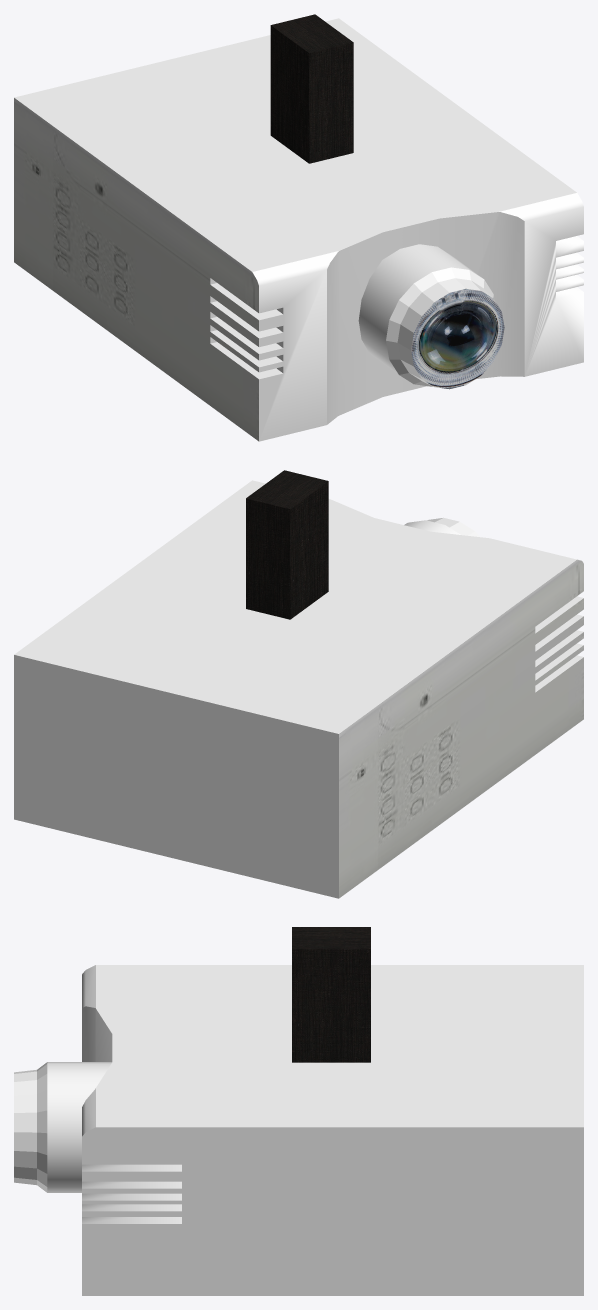
Rendered from projector.glb.
3 views of the same model, one above another, from view 1: azimuth 30°, elevation 25°; view 2: azimuth 150°, elevation 25°; view 3: azimuth 270°, elevation 25° (orthographic). The views are drawn at different scales.
Parts seen in each view (by area): view 1: Box001, Cylinder001, Box006; view 2: Box001, Box006, Cylinder001; view 3: Box001, Box006, Cylinder001.
Boxes of the visible parts, x1,y1,x2,y2 form: Box001: (14, 18, 583, 441); Cylinder001: (358, 244, 504, 389); Box006: (270, 14, 353, 163); Box001: (14, 480, 583, 898); Box006: (246, 470, 328, 619); Cylinder001: (404, 517, 479, 536); Box001: (82, 965, 583, 1295); Box006: (292, 927, 370, 1062); Cylinder001: (14, 1062, 112, 1192).
Bounding box in the file's own units: 39.87 × 33.66 × 59.16.
Materials: 4 (4 with a texture image).
